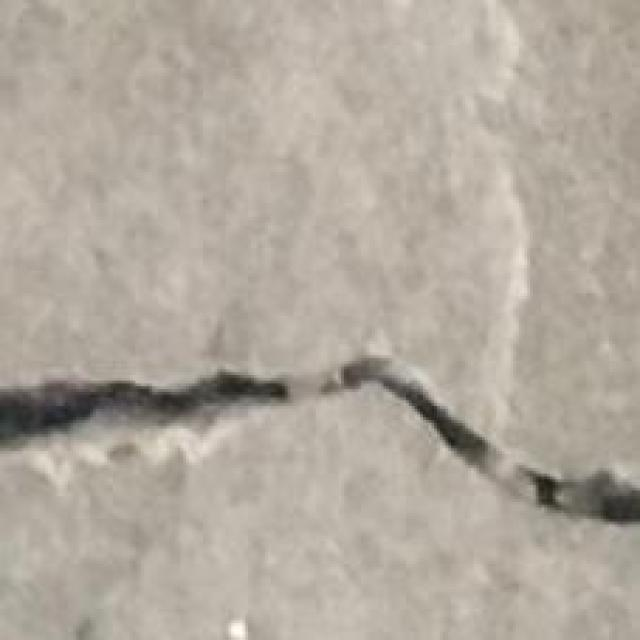Diagonal: (410, 368, 640, 577)
Transverse: (5, 349, 397, 470)
